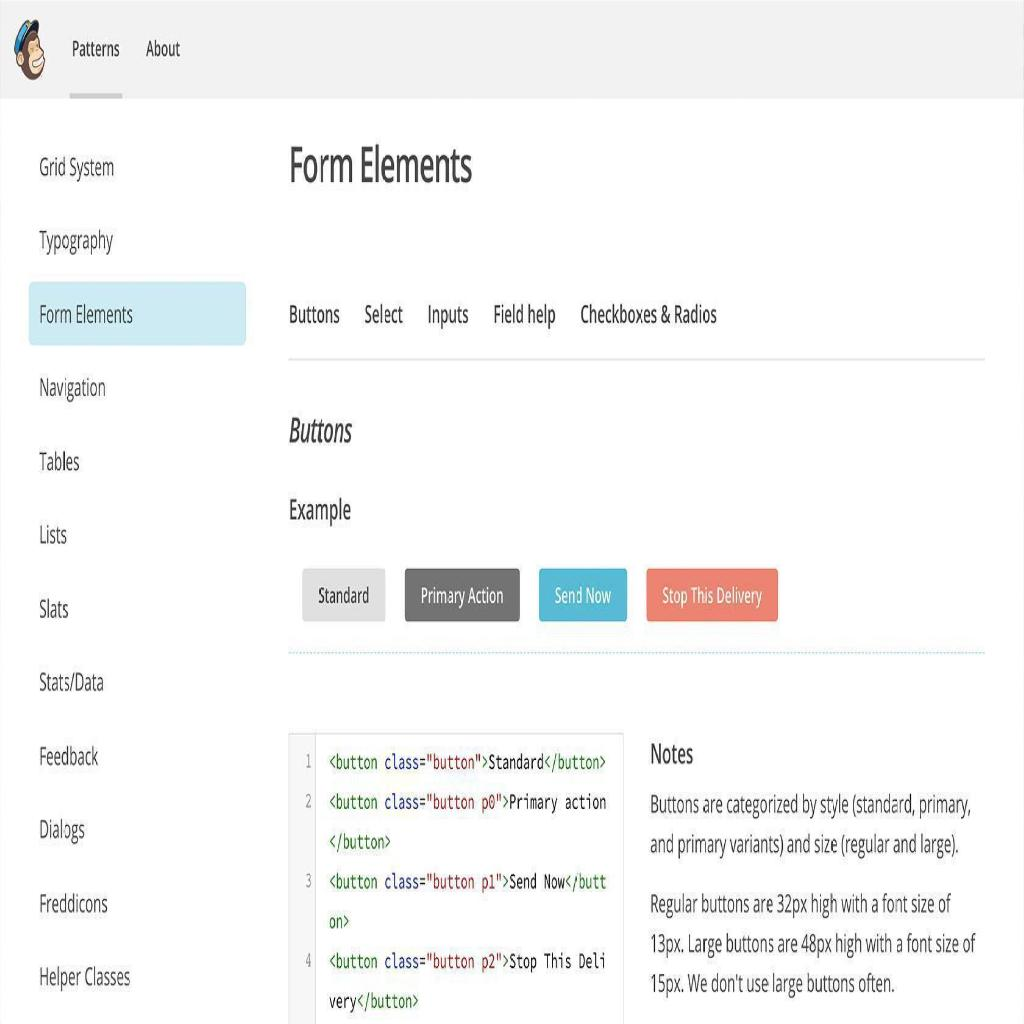button: (27, 280, 247, 348), (644, 566, 780, 622), (403, 568, 520, 622), (536, 564, 629, 622), (299, 564, 389, 622)
label: (284, 137, 477, 198), (578, 298, 718, 328), (285, 493, 352, 544), (287, 410, 354, 448), (35, 888, 108, 920), (39, 226, 114, 255), (493, 299, 557, 332), (38, 964, 132, 986), (37, 154, 115, 178), (38, 374, 106, 400), (36, 814, 86, 846), (38, 743, 99, 769), (290, 299, 340, 330), (38, 671, 104, 692), (427, 298, 470, 328), (364, 297, 403, 327), (70, 38, 120, 59), (38, 450, 80, 474), (38, 593, 69, 620), (38, 524, 68, 546), (146, 39, 180, 57)
